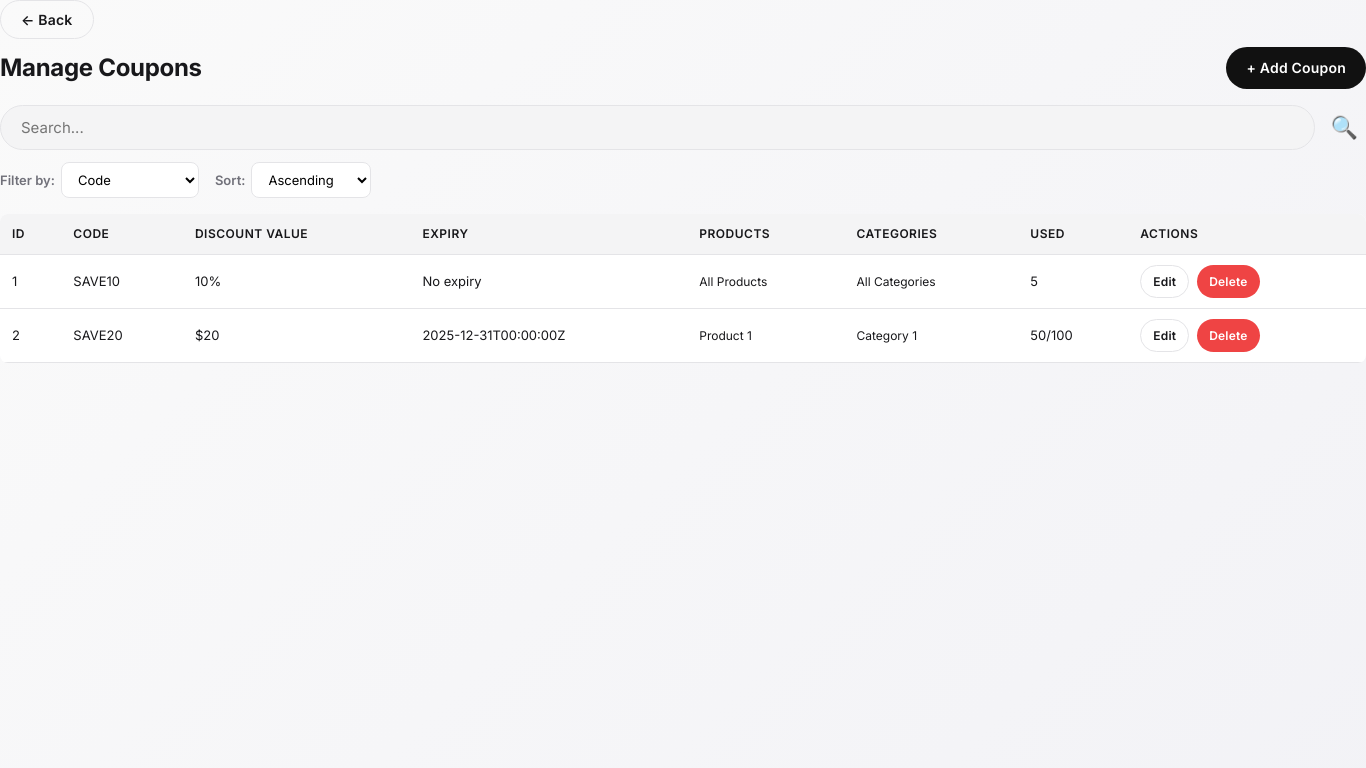
Test case: AdminCoupons › Delete › should show confirmation modal when delete clicked
Click the button "Delete" in the row of "SAVE10" at (1228, 281), box [1197, 265, 1260, 298]
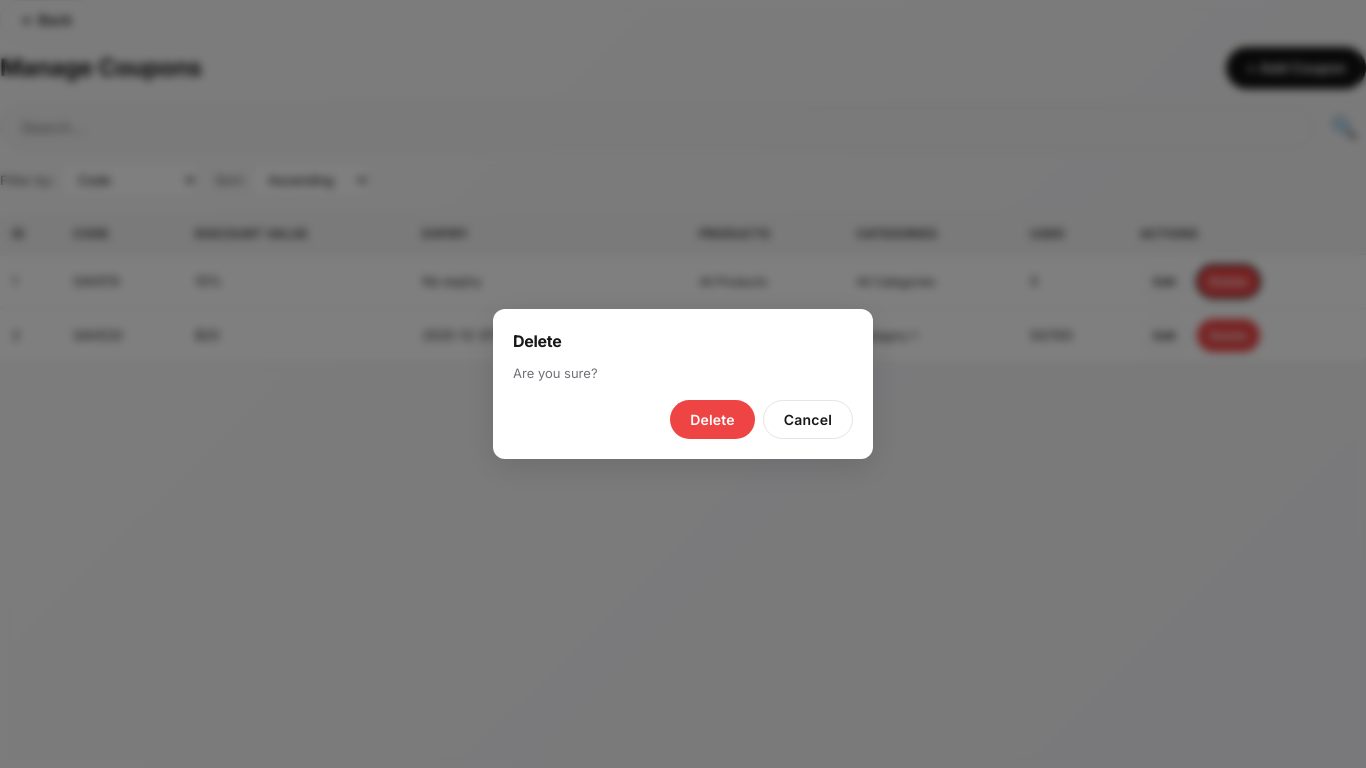
Now the text "Are you sure?" is shown, box [513, 365, 598, 381]
